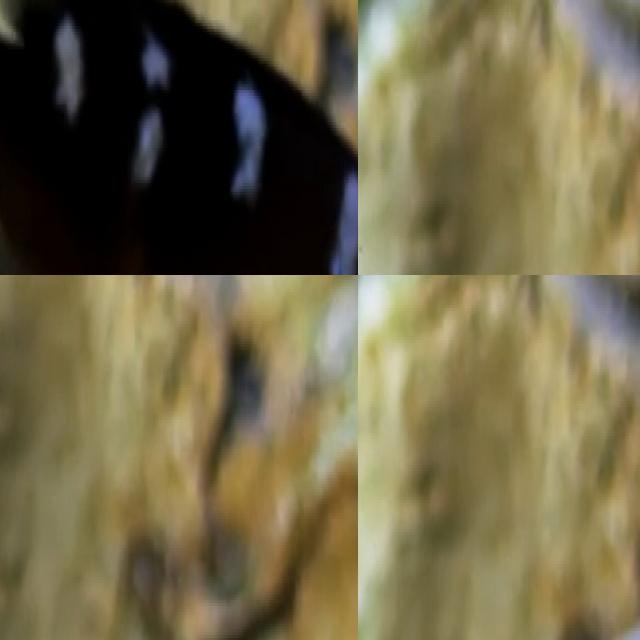fish: (0, 0, 358, 275), (424, 534, 640, 640)
